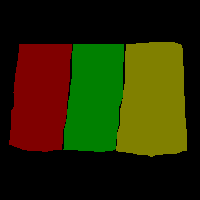mutande: (116, 42, 187, 157), (9, 43, 72, 152), (63, 43, 124, 152)
